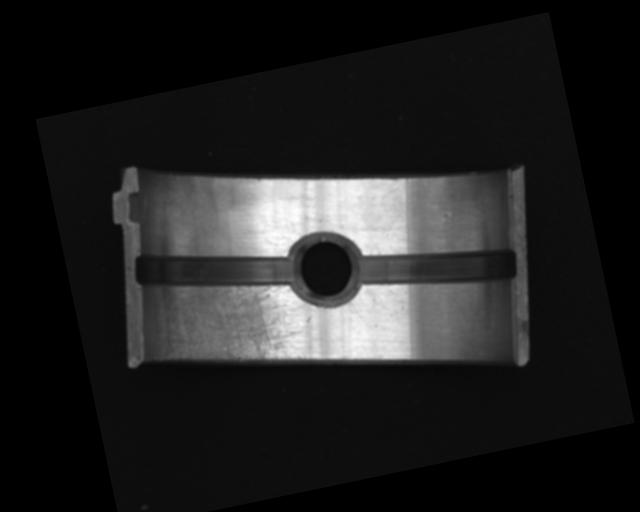gap: (129, 223, 297, 317), (359, 226, 522, 308)
hole: (282, 230, 364, 306)
scratch: (137, 260, 302, 386)
